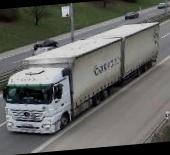truck: (0, 21, 168, 137)
